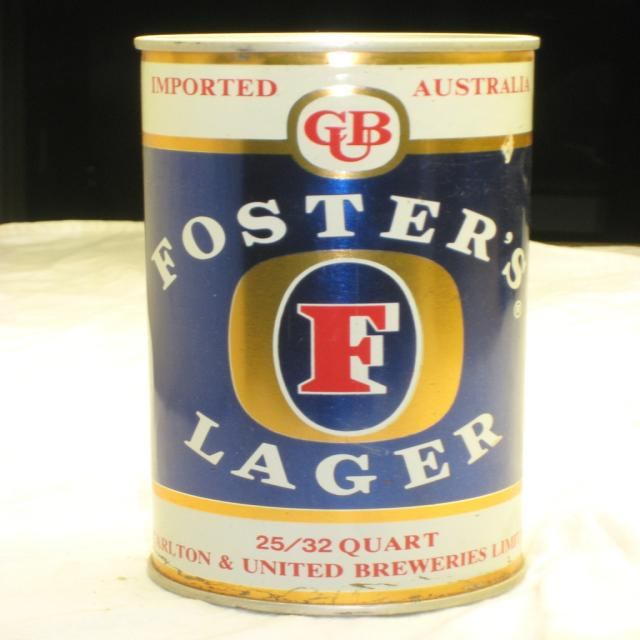fosters: (225, 247, 470, 448)
